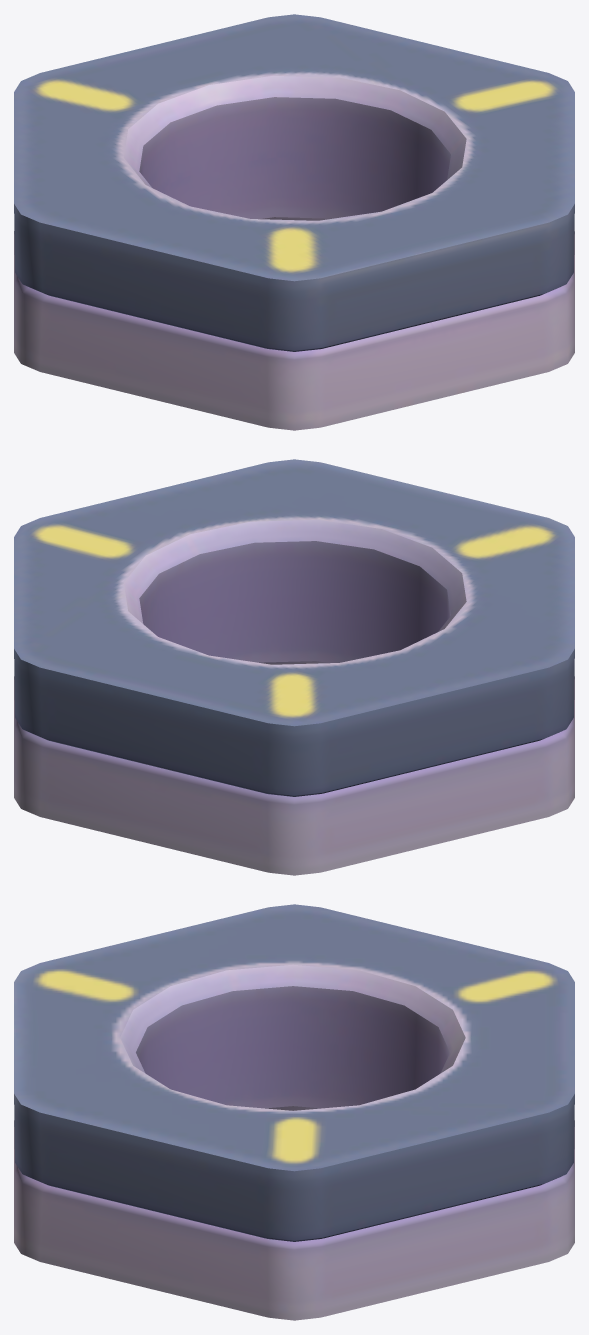
Rendered from Nut.fbx.
3 views of the same model, one above another, from view 1: azimuth 30°, elevation 25°; view 2: azimuth 150°, elevation 25°; view 3: azimuth 270°, elevation 25° (orthographic).
Parts seen in each view (by area): view 1: PRP_S04_Nut_0; view 2: PRP_S04_Nut_0; view 3: PRP_S04_Nut_0.
Part boxes in pixels (x1,y1,x2,y2): PRP_S04_Nut_0: (14, 14, 574, 430); PRP_S04_Nut_0: (14, 459, 574, 875); PRP_S04_Nut_0: (14, 904, 574, 1320).
Bounding box in the file's own units: 9.87 × 2.58 × 8.77.
